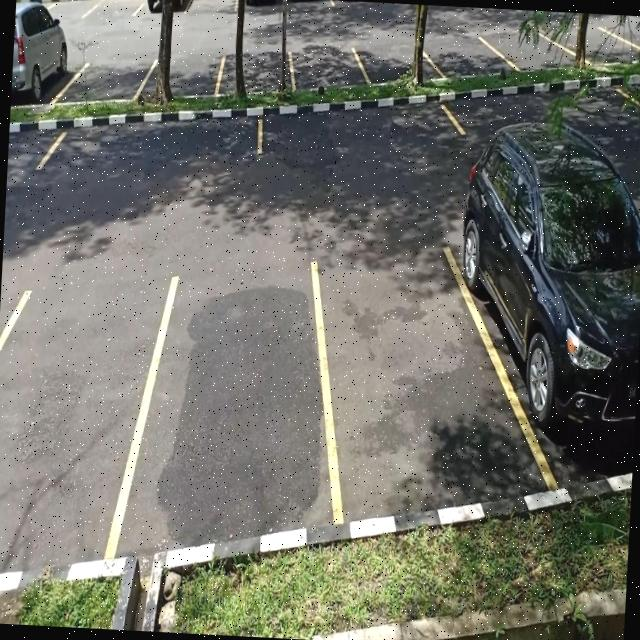empty: (134, 268, 328, 562), (315, 244, 500, 528), (0, 268, 148, 562), (40, 104, 263, 179), (258, 100, 460, 164), (64, 48, 154, 104), (217, 42, 296, 98), (148, 46, 223, 104), (427, 27, 499, 84), (288, 45, 364, 96), (360, 38, 432, 88)
occupied: (464, 176, 640, 493), (10, 18, 72, 110)
